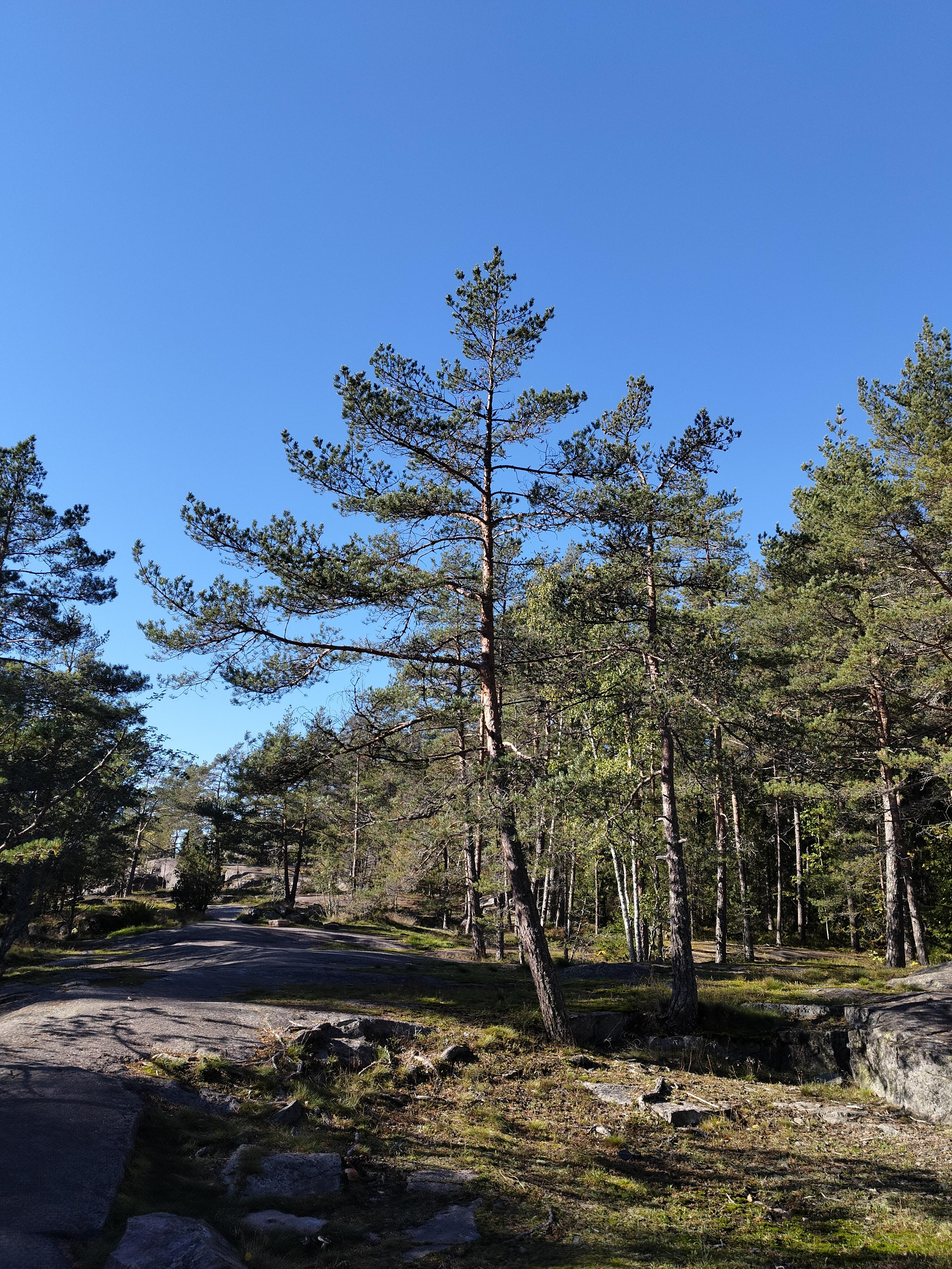Pine: (130, 243, 748, 1045), (518, 373, 755, 1035), (738, 314, 951, 970)
